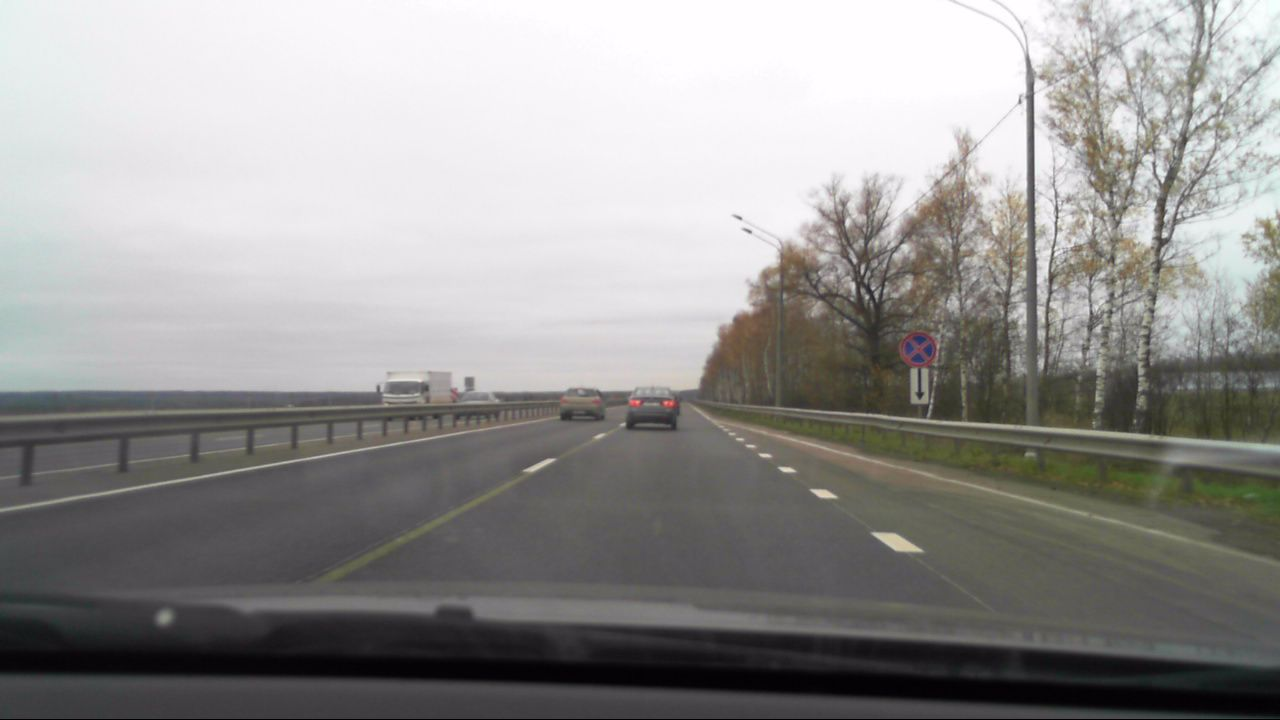No Parking: (898, 331, 937, 366)
